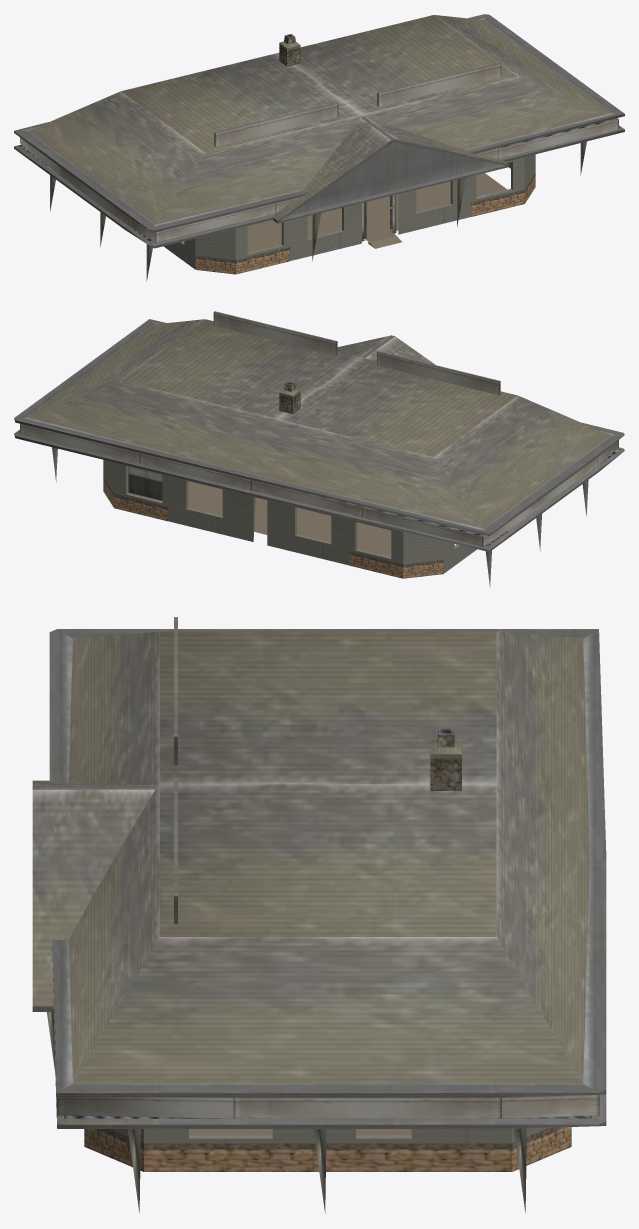
The model's file is rural-wood-4.access-v1.lod1.glb.
3 views of the same model, one above another, from view 1: azimuth 30°, elevation 25°; view 2: azimuth 150°, elevation 25°; view 3: azimuth 270°, elevation 25° (orthographic). The views are drawn at different scales.
Parts seen in each view (by area): view 1: Rural_WoodenBuilding_4_Rural_Housetrim_1_0, Rural_WoodenBuilding_4_Rural_Walltrim_1_0, Rural_WoodenBuilding_4_Rural_Facade_FLR_2_0, Walkable floors and stairs; view 2: Rural_WoodenBuilding_4_Rural_Housetrim_1_0, Rural_WoodenBuilding_4_Rural_Facade_FLR_2_0, Rural_WoodenBuilding_4_Rural_Walltrim_1_0, Walkable floors and stairs; view 3: Rural_WoodenBuilding_4_Rural_Housetrim_1_0, Rural_WoodenBuilding_4_Rural_Facade_FLR_2_0, Rural_WoodenBuilding_4_Rural_Walltrim_1_0, Walkable floors and stairs.
Part boxes in pixels (x1,y1,x2,y2): Rural_WoodenBuilding_4_Rural_Housetrim_1_0: (14, 14, 624, 274); Rural_WoodenBuilding_4_Rural_Walltrim_1_0: (50, 140, 586, 281); Rural_WoodenBuilding_4_Rural_Facade_FLR_2_0: (20, 62, 618, 242); Walkable floors and stairs: (247, 173, 506, 252); Rural_WoodenBuilding_4_Rural_Housetrim_1_0: (14, 319, 624, 578); Rural_WoodenBuilding_4_Rural_Facade_FLR_2_0: (20, 311, 618, 546); Rural_WoodenBuilding_4_Rural_Walltrim_1_0: (52, 447, 588, 587); Walkable floors and stairs: (188, 481, 391, 556); Rural_WoodenBuilding_4_Rural_Housetrim_1_0: (32, 629, 606, 1171); Rural_WoodenBuilding_4_Rural_Facade_FLR_2_0: (56, 617, 599, 1118); Rural_WoodenBuilding_4_Rural_Walltrim_1_0: (47, 1012, 547, 1213); Walkable floors and stairs: (189, 1129, 411, 1135).
Bounding box in the file's own units: 27.73 × 7.64 × 14.49.
Materials: 4 (3 with a texture image).
